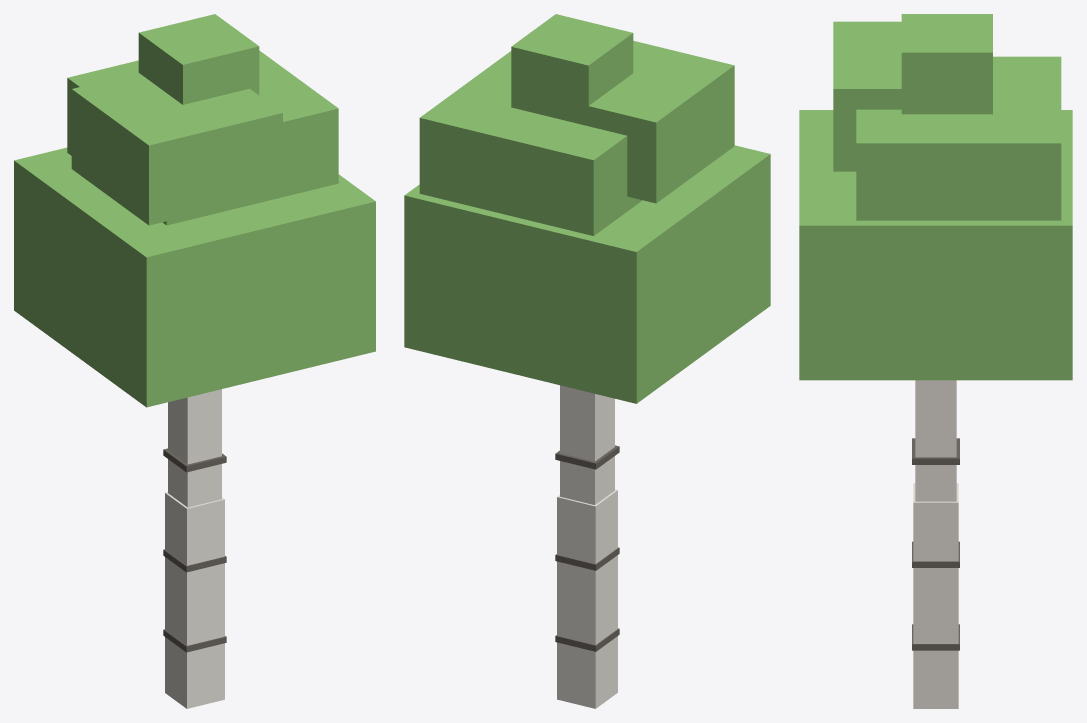
The model's file is prop_birchtree.glb.
3 views of the same model, side by side, from view 1: azimuth 30°, elevation 25°; view 2: azimuth 150°, elevation 25°; view 3: azimuth 270°, elevation 25° (orthographic). The views are drawn at different scales.
Visible parts, largest first — view 1: Prop_BirchTree; view 2: Prop_BirchTree; view 3: Prop_BirchTree.
Part boxes in pixels (x1,y1,x2,y2): Prop_BirchTree: (14,14,375,708); Prop_BirchTree: (404,14,770,708); Prop_BirchTree: (799,14,1072,708).
Bounding box in the file's own units: 2.4 × 6.5 × 2.4.
